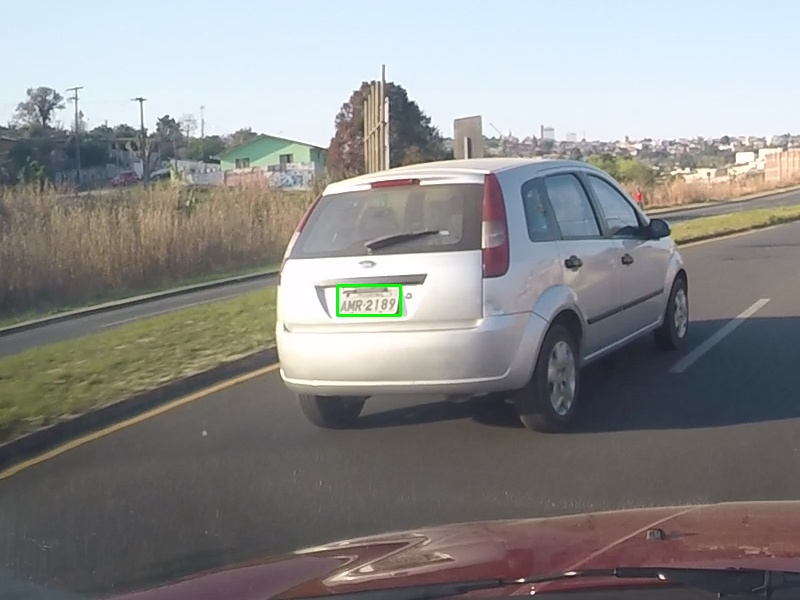placa: (337, 285, 400, 315)
